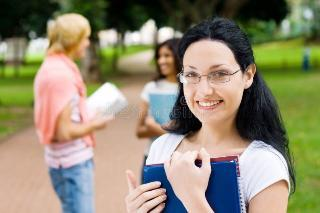person - v3 P: (147, 18, 295, 212), (34, 14, 111, 212), (136, 39, 180, 164)
